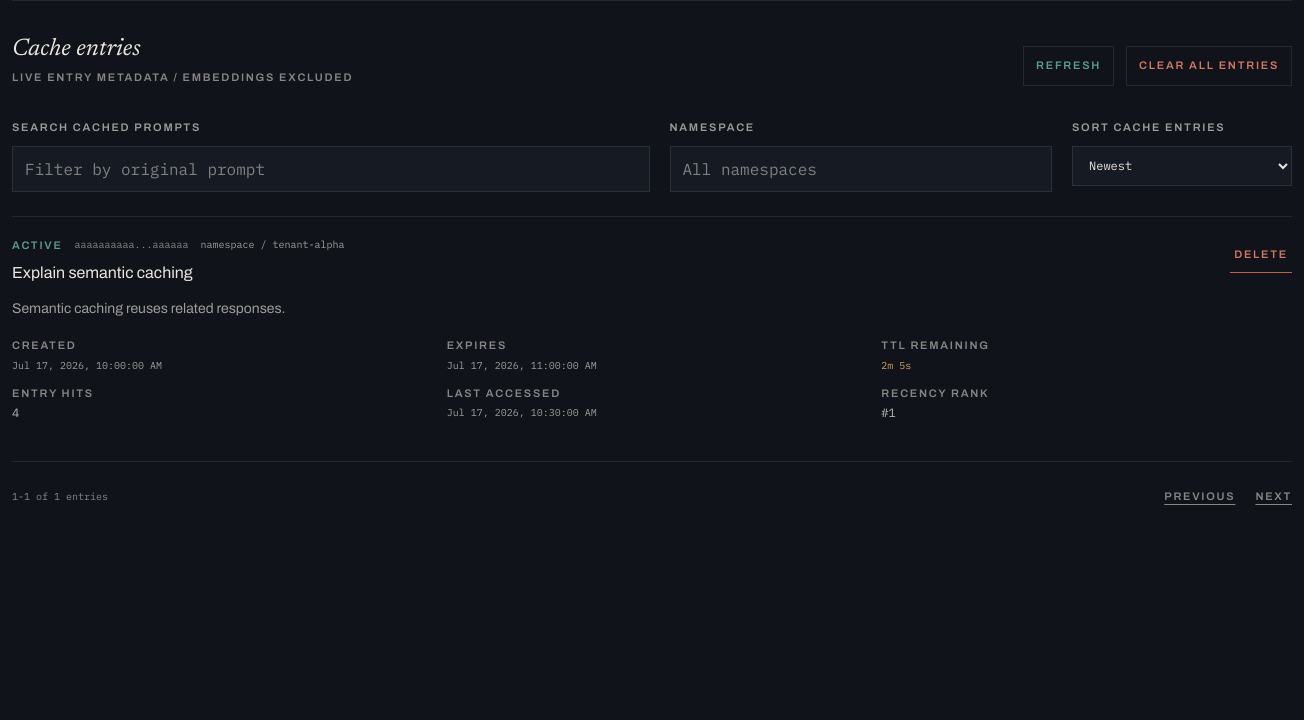
Test: CacheInspector › confirms a single delete and refreshes the listing
Expected: the heading "Explain semantic caching" is shown, x1=12 y1=264 x2=193 y2=281
Click the button "Delete": coordinates (1261, 254) x1=1230 y1=236 x2=1292 y2=272
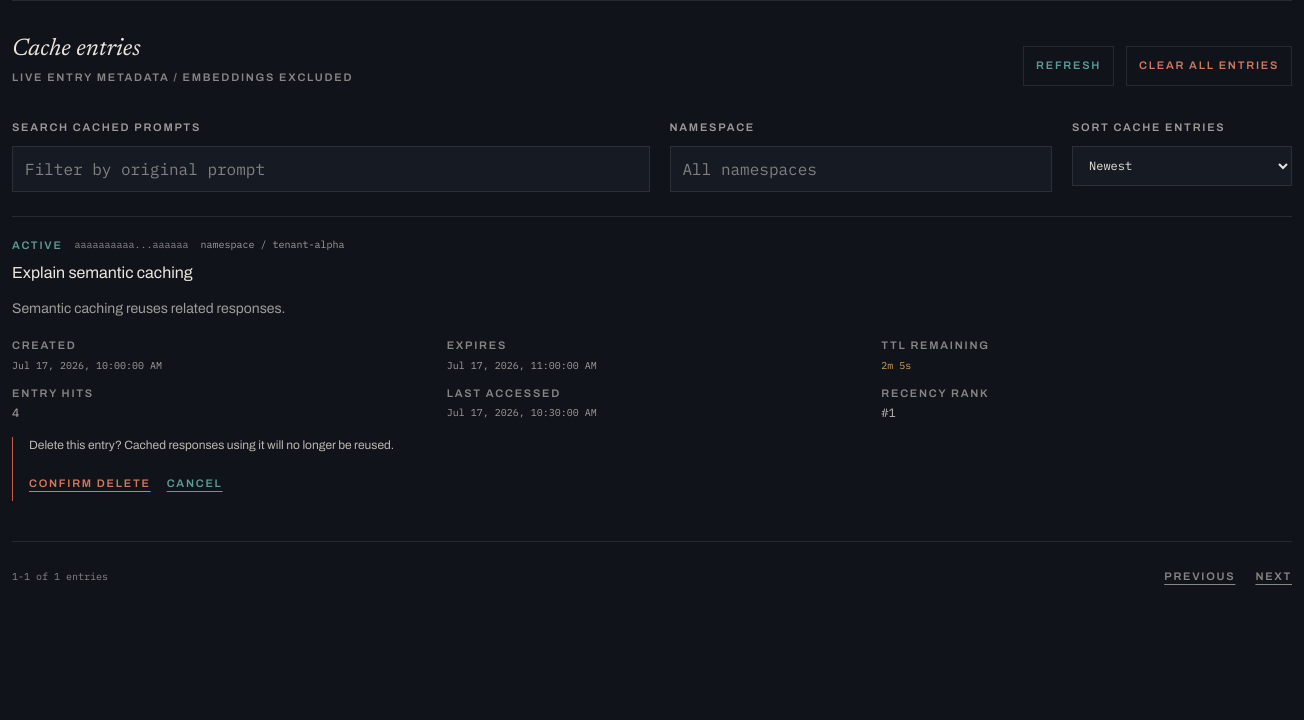
Click the button "Confirm delete": coordinates (90, 483) x1=29 y1=465 x2=151 y2=501
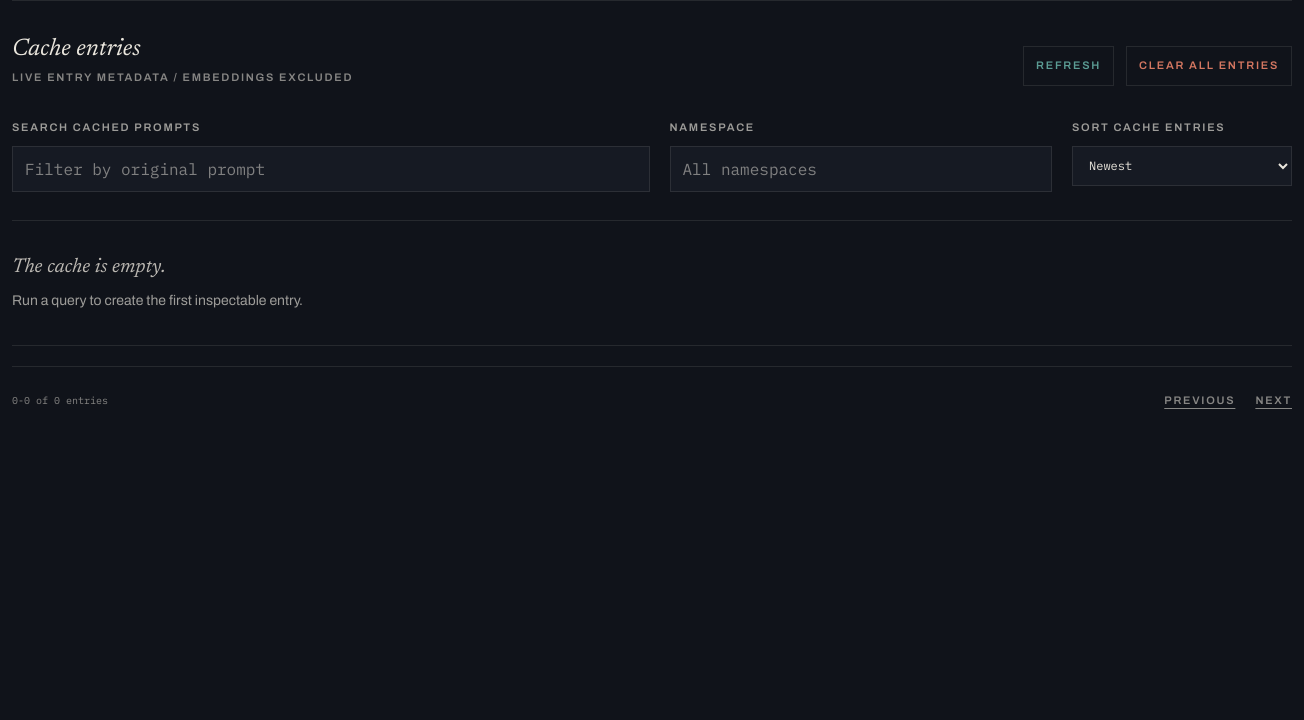
Expected: the text "The cache is empty." is shown, x1=12 y1=256 x2=166 y2=276
